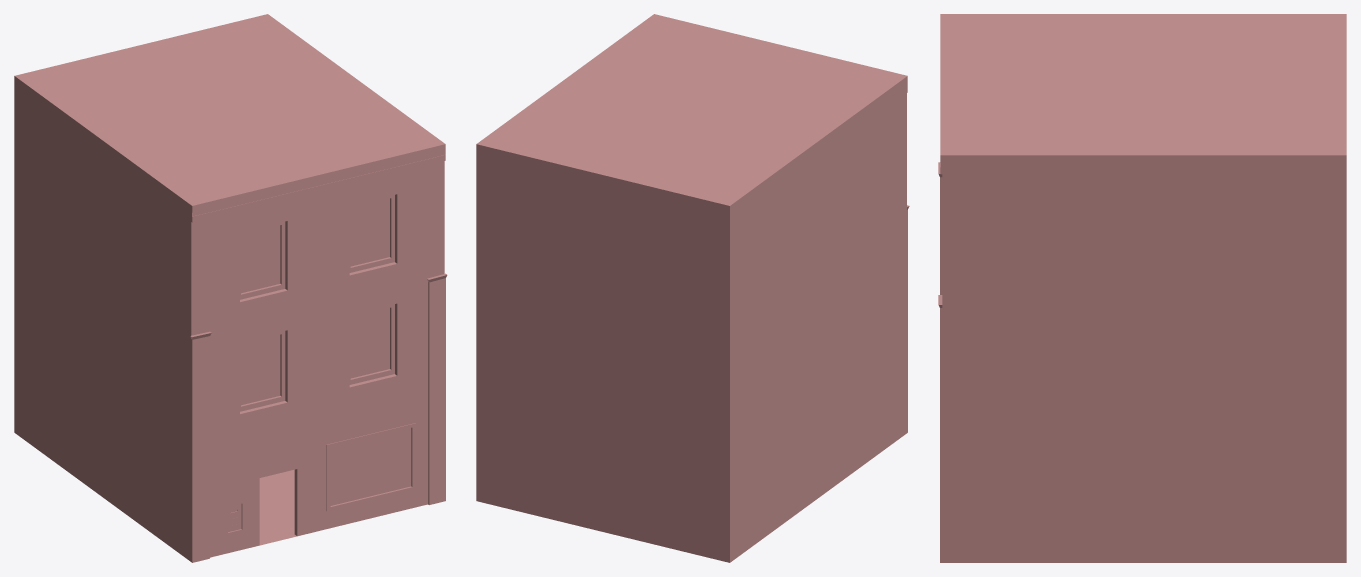
File: Building 1 with Inside.fbx
3 renders of one model, left to right at view 1: azimuth 30°, elevation 25°; view 2: azimuth 150°, elevation 25°; view 3: azimuth 270°, elevation 25°, orthographic. The views are drawn at different scales.
Visible parts, largest first — view 1: OuterBuilding, Window, InsideBuilding; view 2: OuterBuilding; view 3: OuterBuilding.
Boxes of the visible parts, x1,y1,x2,y2 form: OuterBuilding: (14,14,447,562); Window: (330,428,411,505); InsideBuilding: (259,469,294,542); OuterBuilding: (476,14,909,562); OuterBuilding: (938,14,1346,562).
Bounding box in the file's own units: 434 × 580 × 526.
